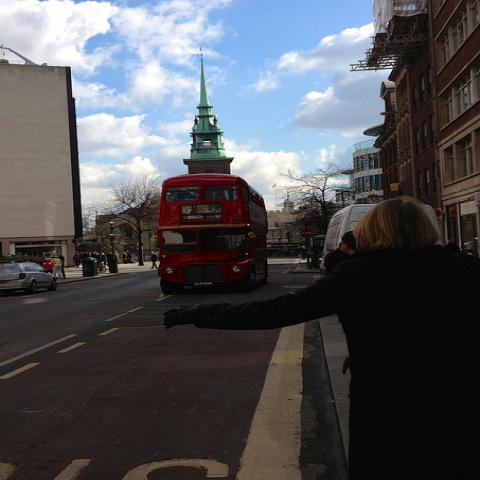bus: (162, 174, 274, 302)
car: (0, 263, 59, 295)
